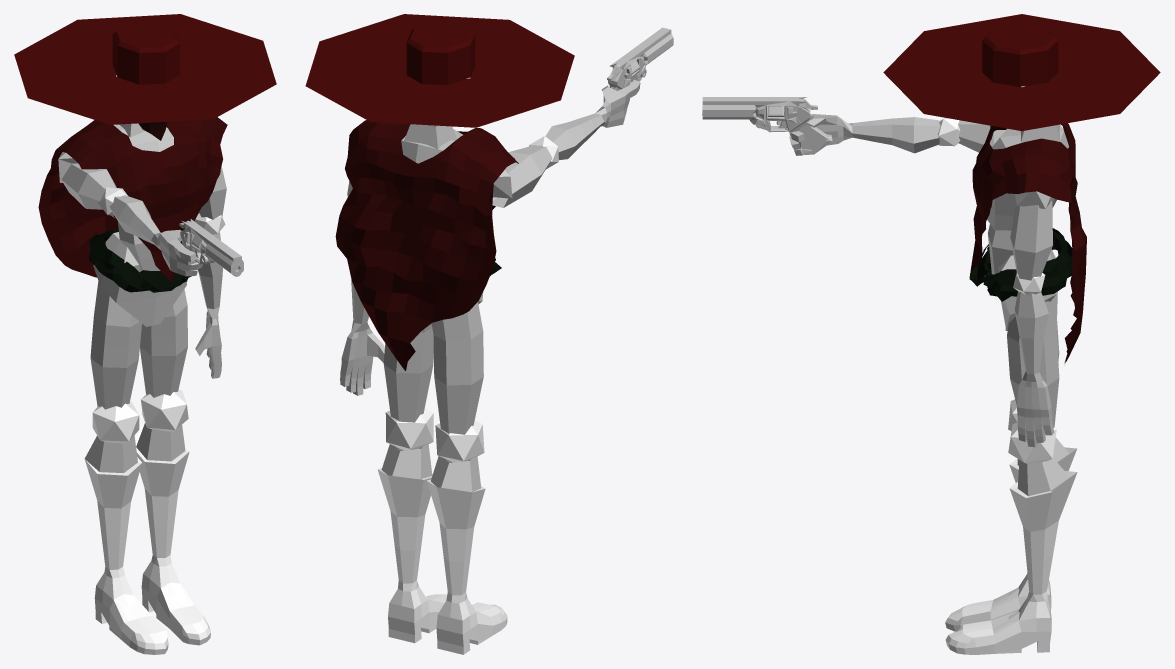
File: НПС_с_пистолетом_3.obj
The picture shows the model from 3 angles, left to right: view 1: azimuth 30°, elevation 25°; view 2: azimuth 150°, elevation 25°; view 3: azimuth 270°, elevation 25°; orthographic projection. The views are drawn at different scales.
Visible parts, largest first — view 1: шляпа, ноги_стопы, тело_верх.002, ноги_верх, руки_кисти, тело_низ, ноги_колени, пояс, руки_верз, Плоскость, тело_верх, руки_локти (+1 smaller); view 2: тело_верх.002, шляпа, ноги_стопы, ноги_верх, руки_кисти, ноги_колени, руки_верз, Плоскость, тело_верх, голова.001; view 3: шляпа, ноги_стопы, тело_верх.002, руки_кисти, руки_верз, Плоскость, пояс, ноги_верх, тело_верх, тело_низ, ноги_колени, руки_локти (+1 smaller).
Part boxes in pixels (x1,y1,x2,y2): шляпа: (14,14,276,124); ноги_стопы: (84,423,210,654); тело_верх.002: (38,117,227,282); ноги_верх: (90,281,187,409); руки_кисти: (109,195,222,378); тело_низ: (93,221,187,326); ноги_колени: (92,389,188,443); пояс: (89,228,191,292); руки_верз: (61,163,226,219); Плоскость: (179,219,241,264); тело_верх: (58,124,173,217); руки_локти: (98,187,225,234); тело_верх.002: (335,120,518,370); шляпа: (305,14,574,127); ноги_стопы: (377,444,507,654); ноги_верх: (383,302,483,434); руки_кисти: (340,79,640,395); ноги_колени: (385,408,484,462); руки_верз: (347,145,552,207); Плоскость: (607,27,671,90); тело_верх: (401,129,512,198); голова.001: (404,124,456,149); шляпа: (883,14,1160,130); ноги_стопы: (945,437,1077,654); тело_верх.002: (970,123,1086,363); руки_кисти: (776,114,1054,447); руки_верз: (958,120,1052,280); Плоскость: (702,97,832,154); пояс: (969,228,1072,301); ноги_верх: (1007,291,1059,427); тело_верх: (987,125,1068,230); тело_низ: (987,224,1056,330); ноги_колени: (1008,399,1056,463); руки_локти: (937,118,1045,295).
Bounding box in the file's own units: 1.65 × 3.93 × 2.72.
